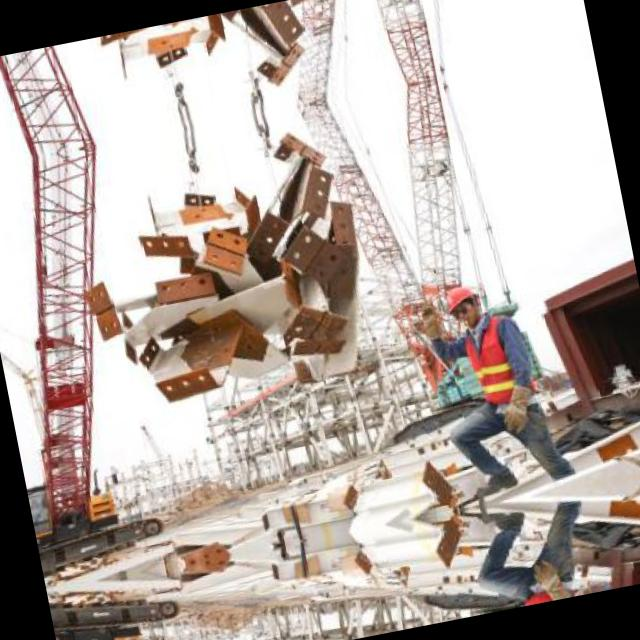helmet: (438, 278, 487, 330)
